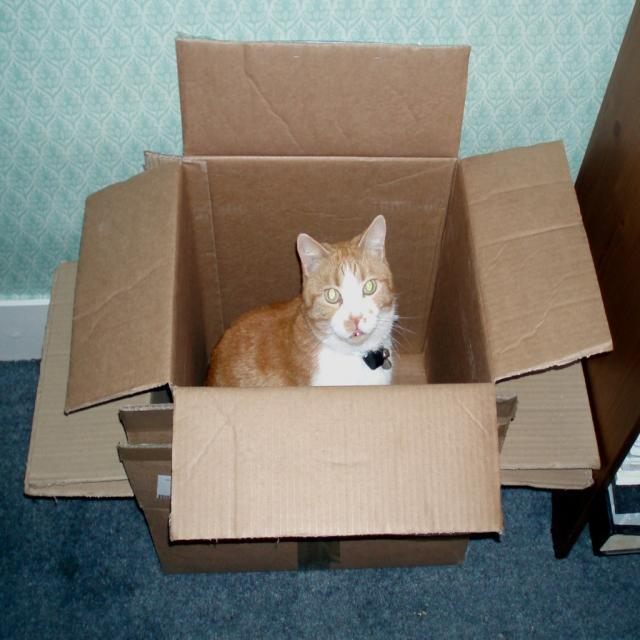Box: (64, 39, 613, 577)
